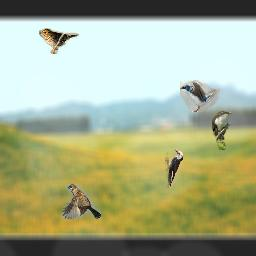Cuckoo: (212, 110, 232, 150)
Sparrow: (61, 184, 101, 219), (39, 28, 79, 54)
Swallow: (180, 80, 220, 112)
Woodpecker: (165, 148, 183, 188)
